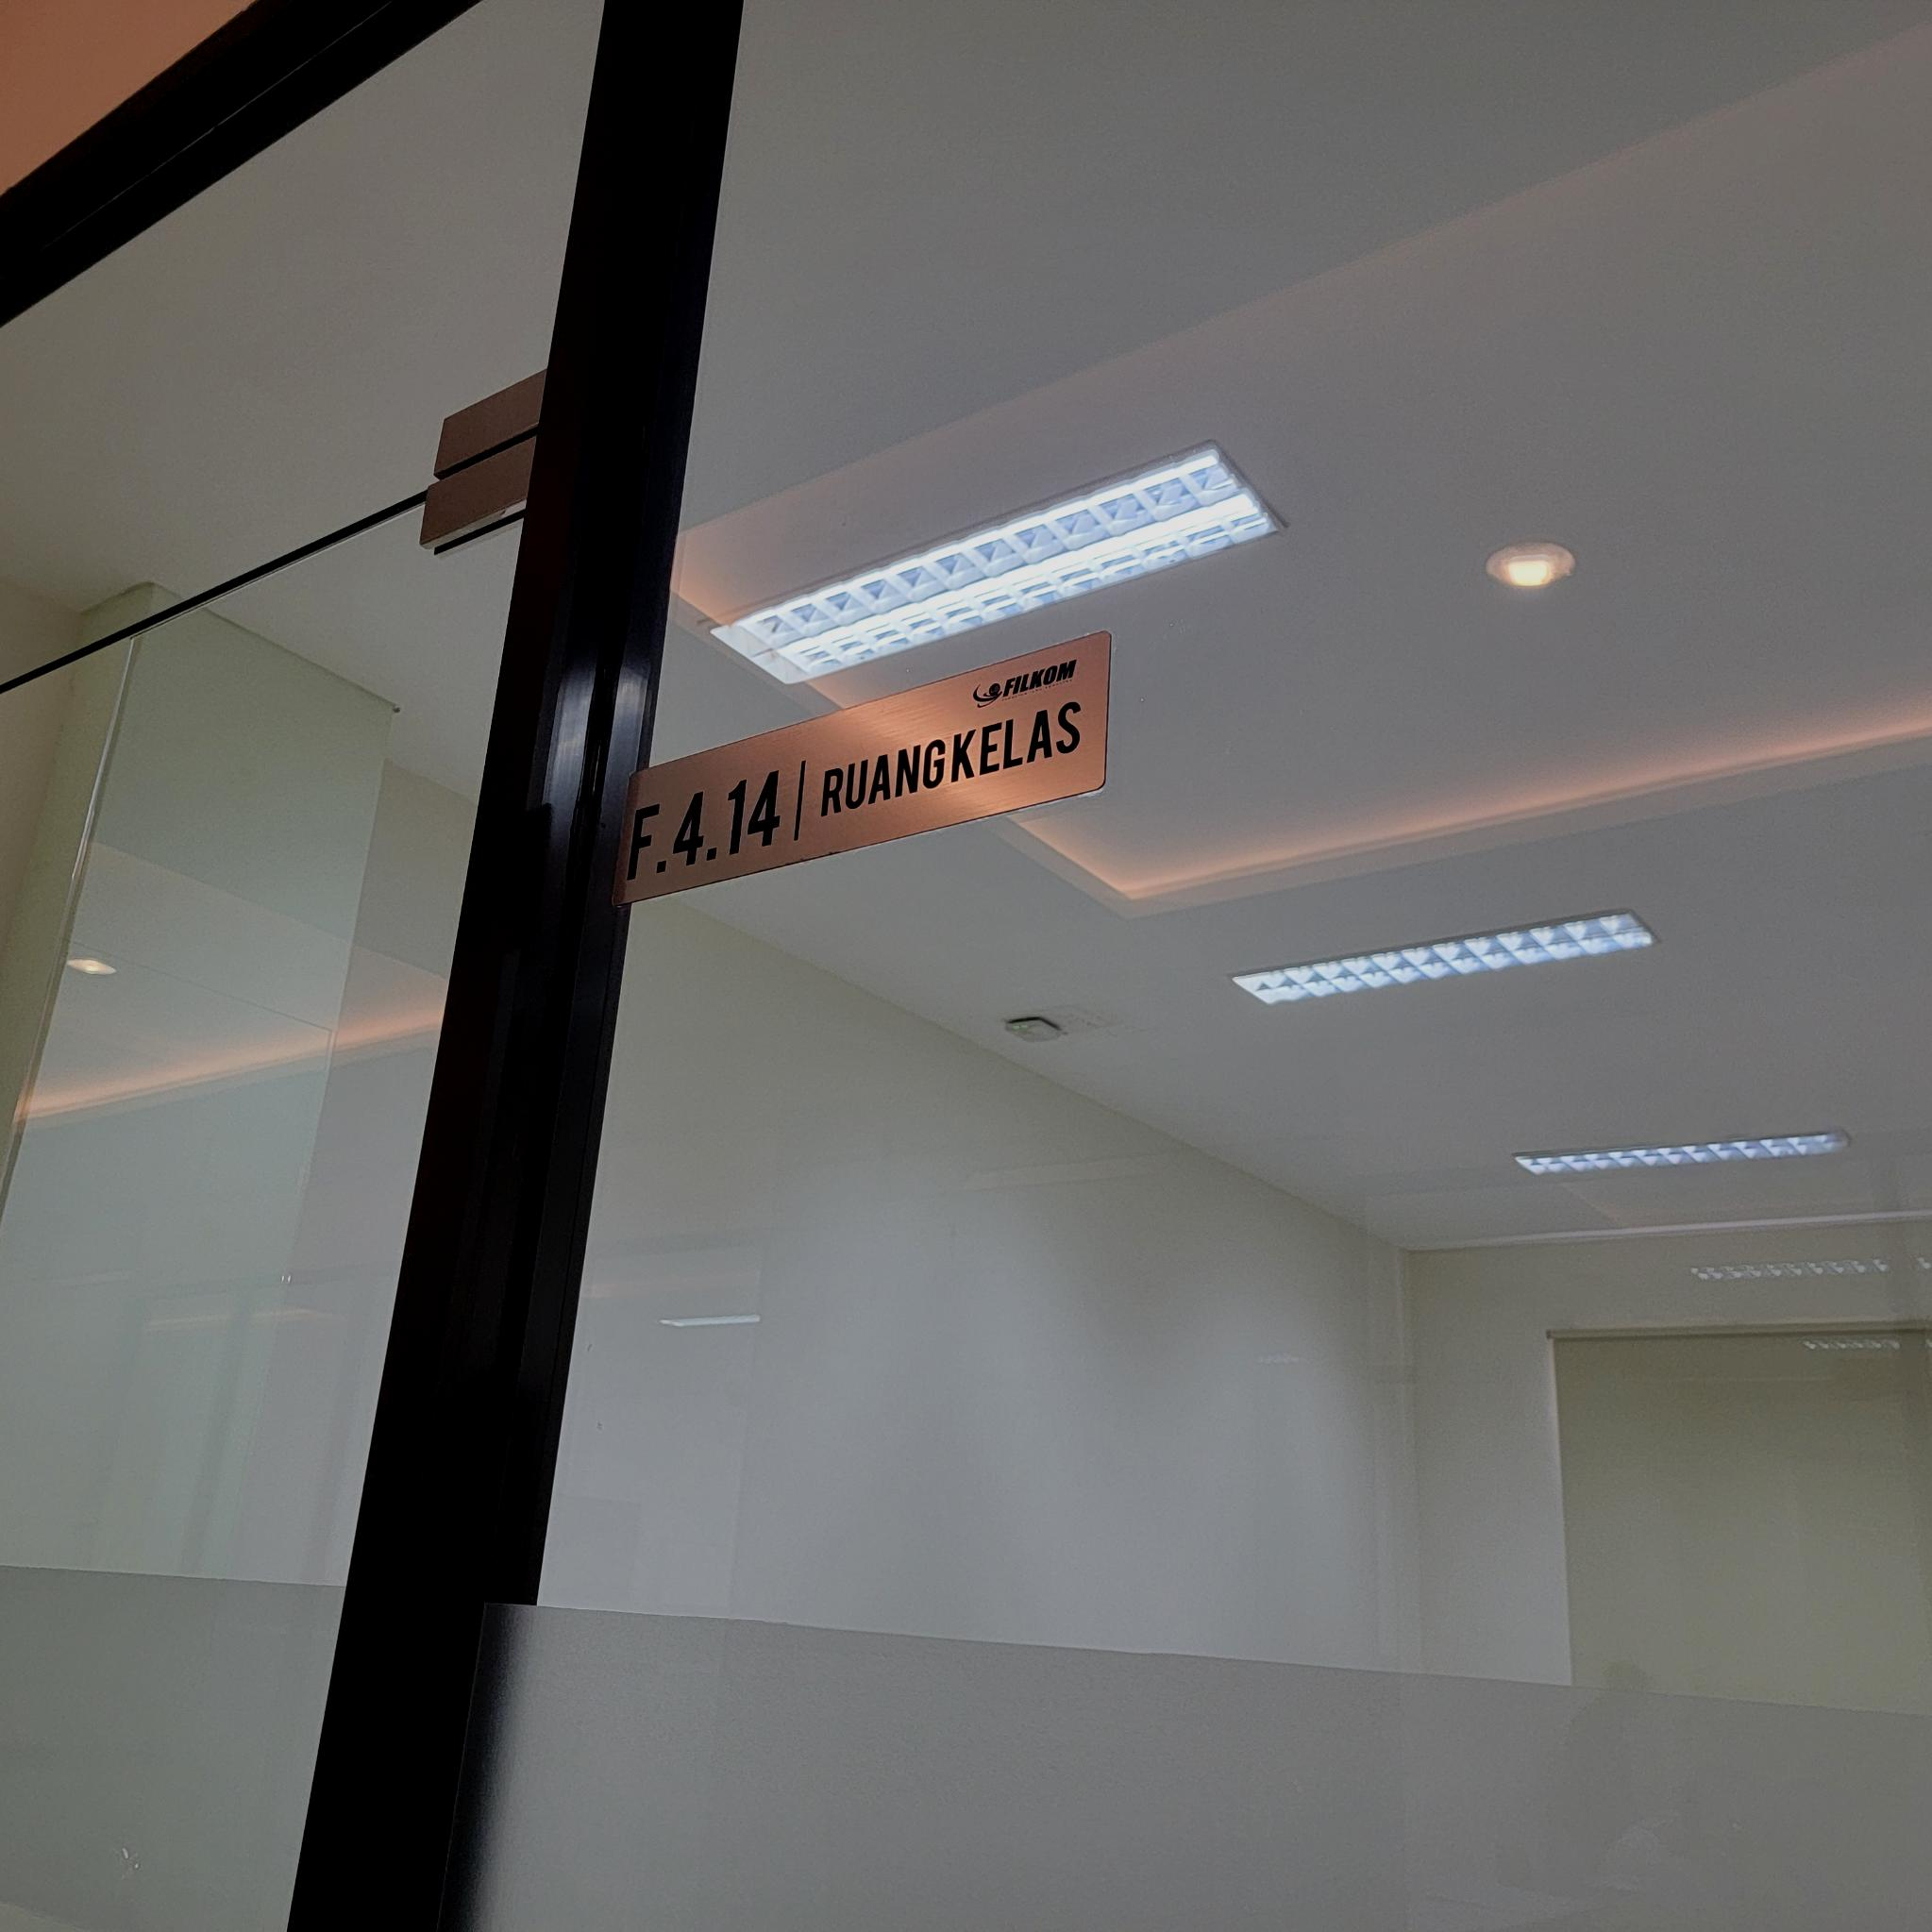plate: (607, 633, 1108, 906)
